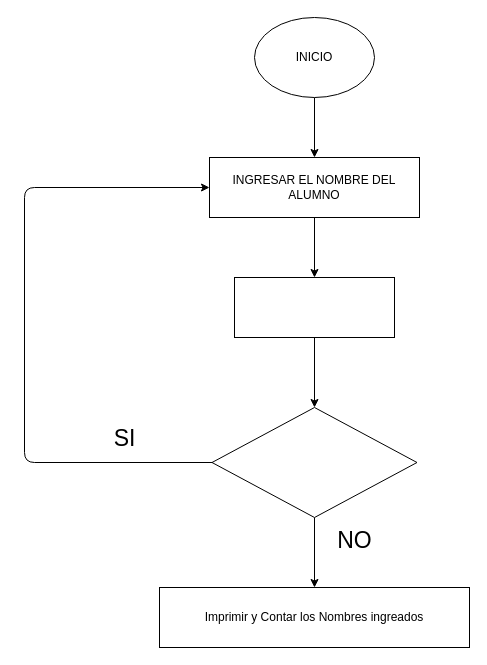
Image size: 487x665. Some labels were removed from this diagram. Here are the shapes that lost their labels. From the top down, the centre of each, then its label:
[314,307]: Guardo el nombre del alumno
[314,462]: Sigue Ingresando alumnos ??
